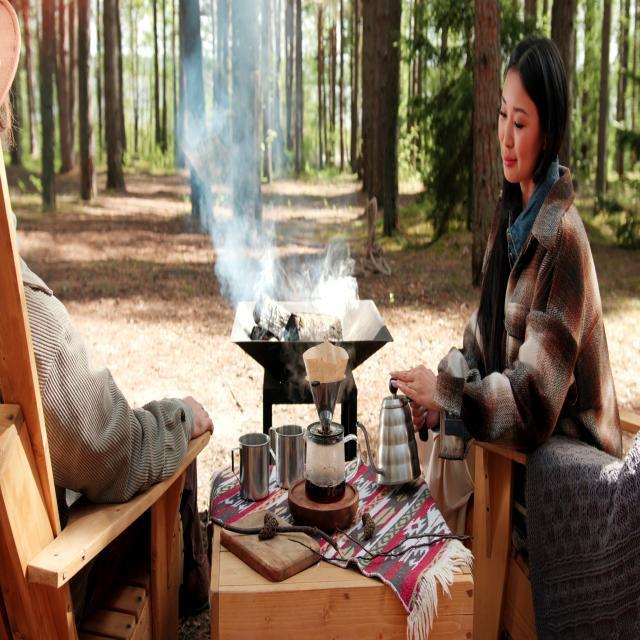Smoke: (161, 0, 314, 329)
